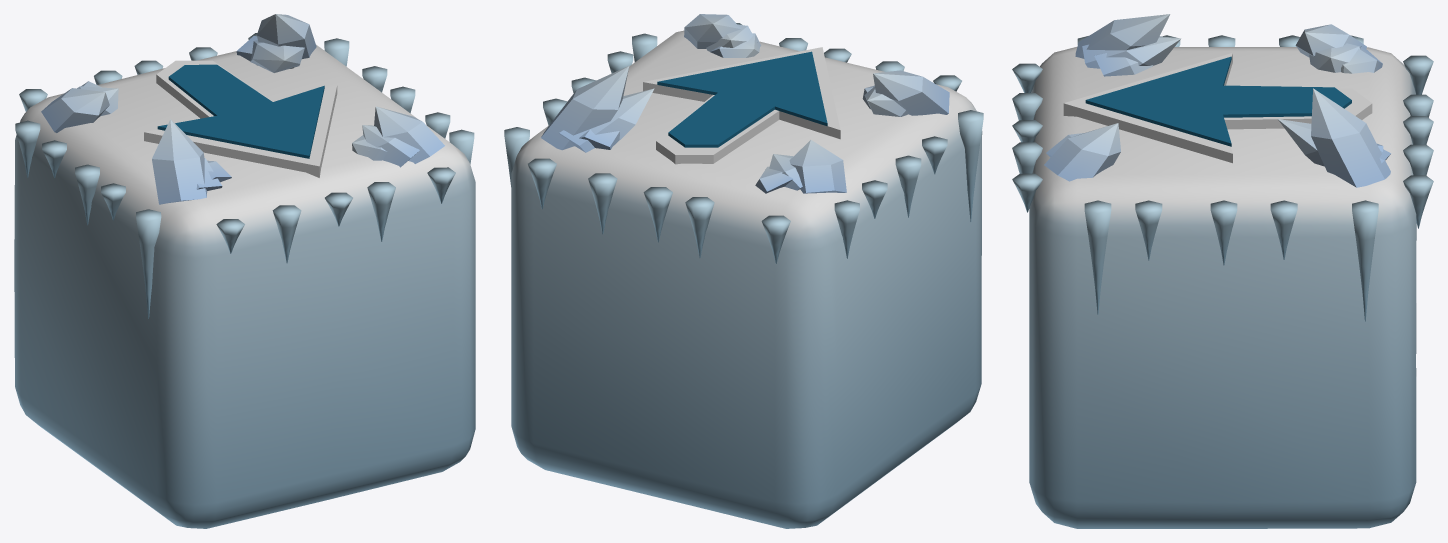
The model's file is buz_hi.glb.
3 renders of one model, left to right at view 1: azimuth 30°, elevation 25°; view 2: azimuth 150°, elevation 25°; view 3: azimuth 270°, elevation 25°, orthographic. The views are drawn at different scales.
Visible parts, largest first — view 1: buz_hi; view 2: buz_hi; view 3: buz_hi.
Part boxes in pixels (left/top/right/bottom): buz_hi: left=14, top=14, right=475, bottom=528; buz_hi: left=504, top=14, right=983, bottom=528; buz_hi: left=1012, top=14, right=1433, bottom=528.
Bounding box in the file's own units: 0.982 × 1.06 × 0.982.
